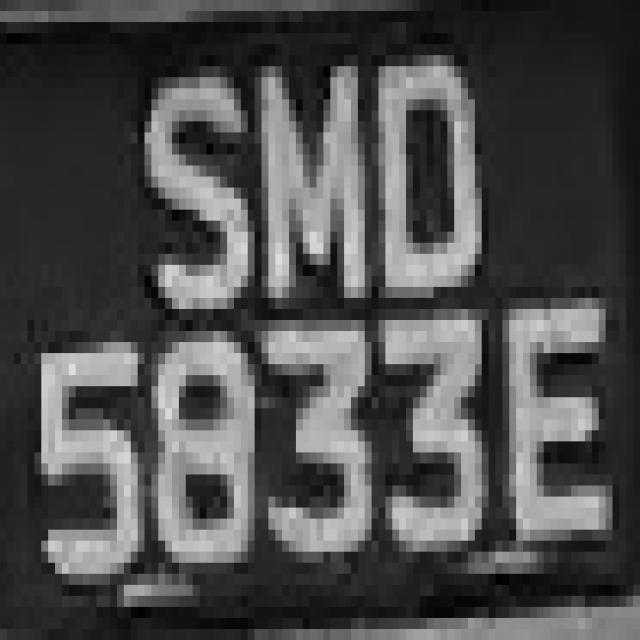3: (248, 265, 372, 596), (378, 276, 482, 541)
5: (35, 298, 152, 607)
8: (152, 309, 255, 585)
D: (358, 22, 475, 298)
E: (502, 254, 612, 563)
M: (241, 55, 392, 353)
S: (144, 11, 268, 331)
